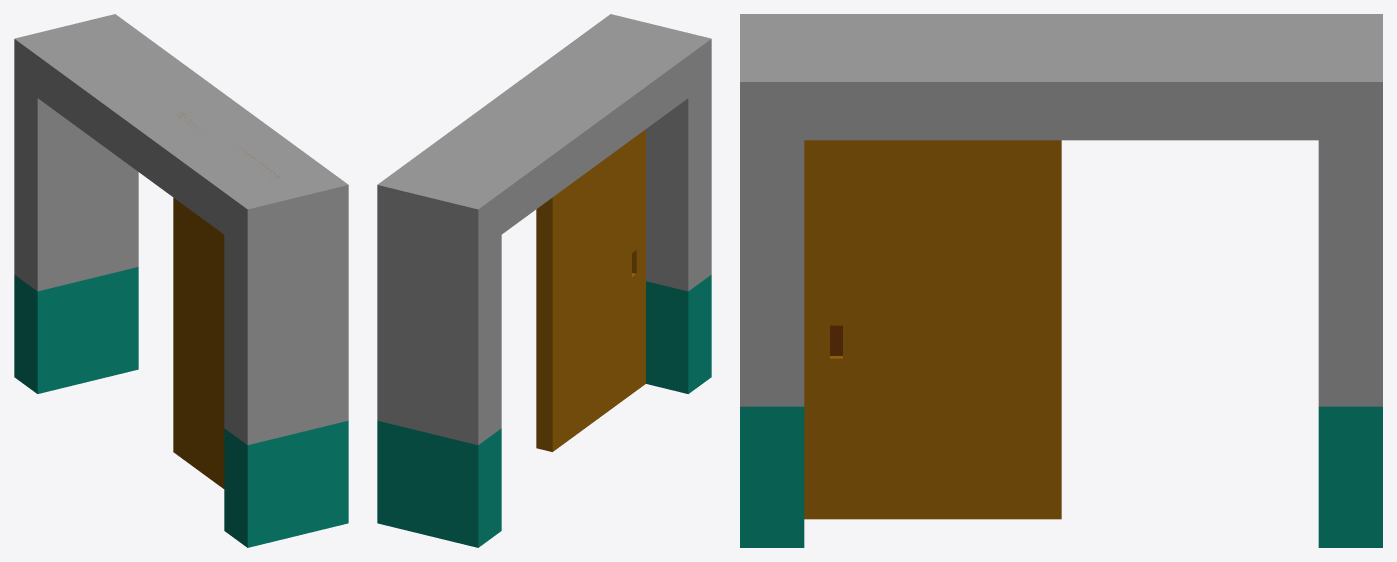
Rendered from Door_1.fbx.
3 renders of one model, left to right at view 1: azimuth 30°, elevation 25°; view 2: azimuth 150°, elevation 25°; view 3: azimuth 270°, elevation 25°, orthographic. The views are drawn at different scales.
Visible parts, largest first — view 1: CementPart, DoorPart, WoodPart.000, WoodPart.001; view 2: CementPart, DoorPart, WoodPart.000, WoodPart.001; view 3: CementPart, DoorPart, WoodPart.001, WoodPart.000.
Part boxes in pixels (<box>): CementPart: <box>14,14,348,444</box>; DoorPart: <box>173,113,279,488</box>; WoodPart.000: <box>14,267,138,393</box>; WoodPart.001: <box>224,420,348,547</box>; CementPart: <box>377,14,711,444</box>; DoorPart: <box>536,129,645,451</box>; WoodPart.000: <box>377,420,501,547</box>; WoodPart.001: <box>646,275,711,393</box>; CementPart: <box>740,14,1382,406</box>; DoorPart: <box>804,140,1061,519</box>; WoodPart.001: <box>740,406,804,547</box>; WoodPart.000: <box>1318,406,1382,547</box>.
Size of the model in its own units: 250 by 800 by 1000.
